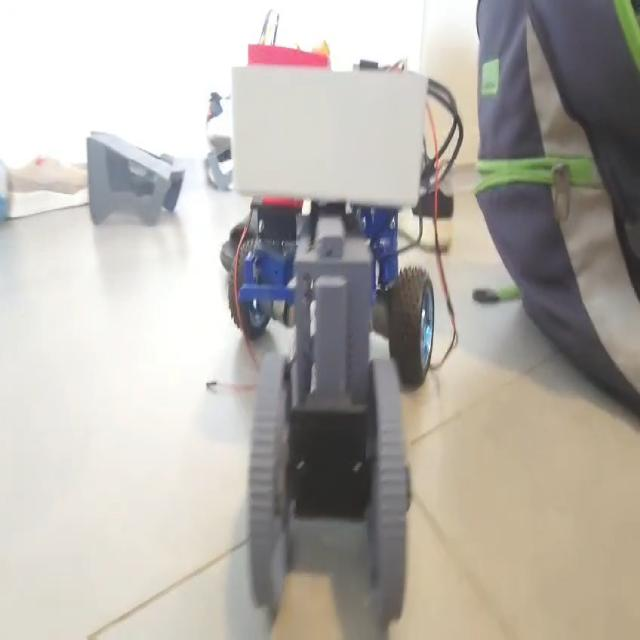Robot: (223, 41, 436, 638)
